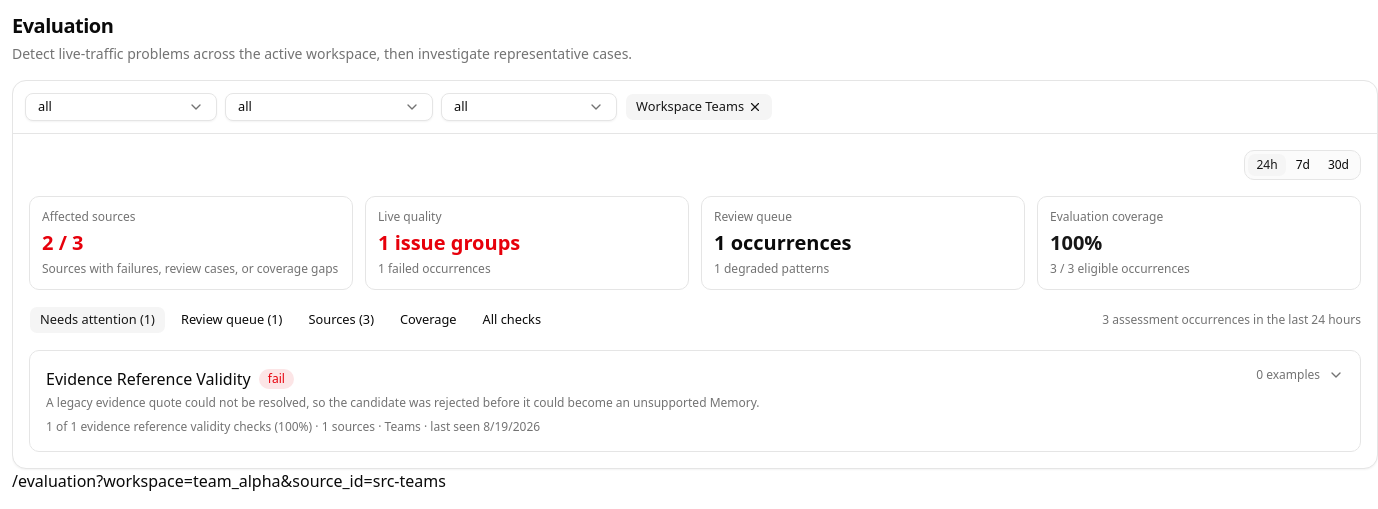
Test: OnlineEvaluationPage › keeps the workspace Source Type choices stable while applying a filter
The width and height of the screenshot is (1378, 509).
Expected: the text "2 / 3" is shown, [42, 229, 84, 256]
Step 1. Click the dropdown named "Filter by Source Type" → {"x": 121, "y": 107}, box [25, 93, 217, 121]
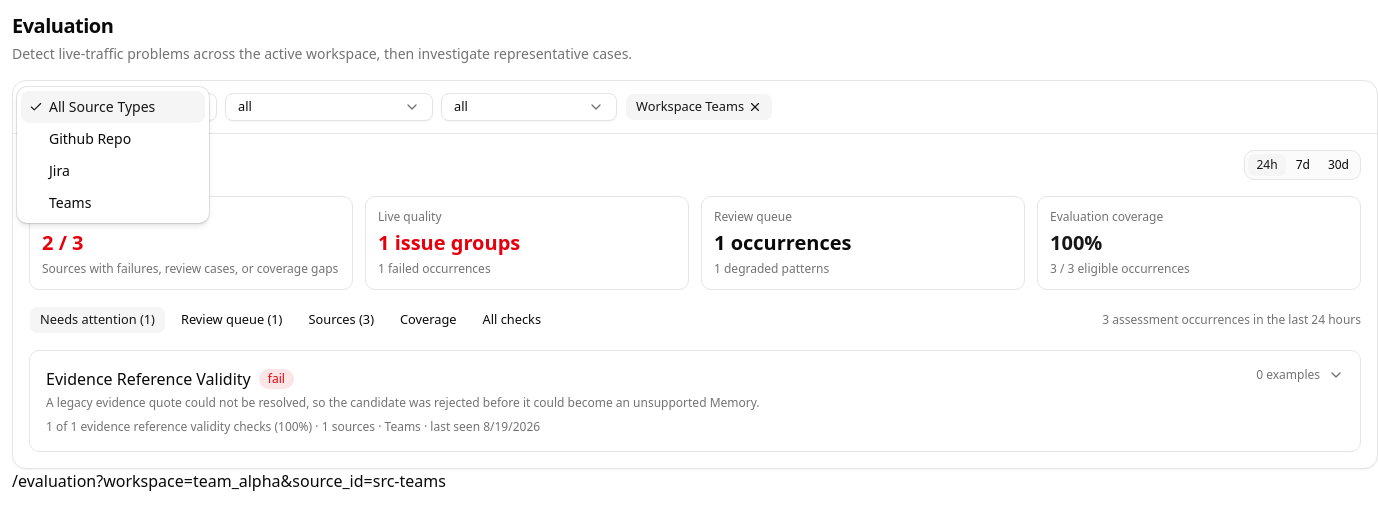
Step 2. Click the option "Jira" → {"x": 59, "y": 170}, box [49, 161, 70, 180]
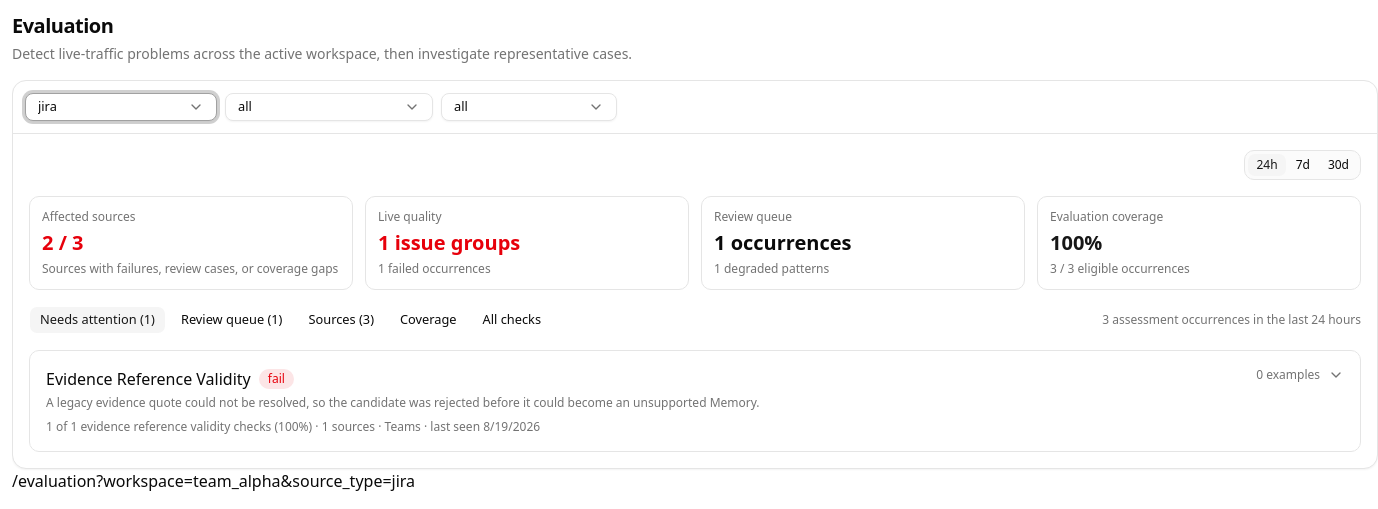
Expected: the text with test id "location" shows "workspace=team_alpha", [96, 470, 415, 492]
Expected: the text with test id "location" shows "source_type=jira", [96, 470, 415, 492]
Expected: the text with test id "location" no longer shows "source_id="
Step 3. Click the dropdown named "Filter by Source Type" → {"x": 121, "y": 107}, box [25, 93, 217, 121]
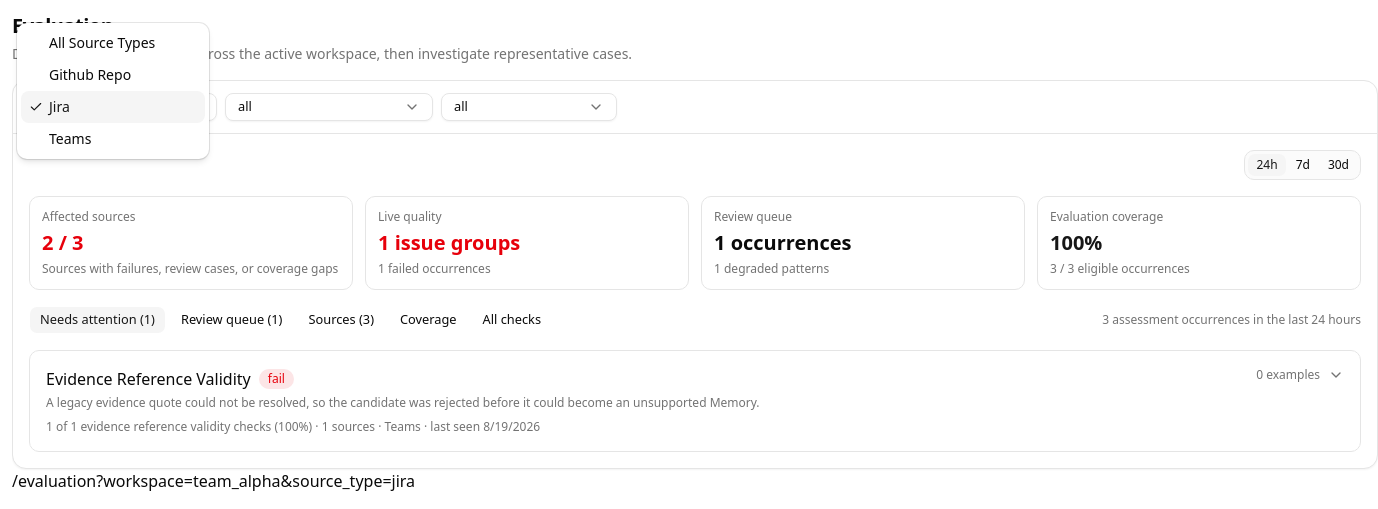
Expected: the option "Teams" is shown, [49, 129, 91, 148]
